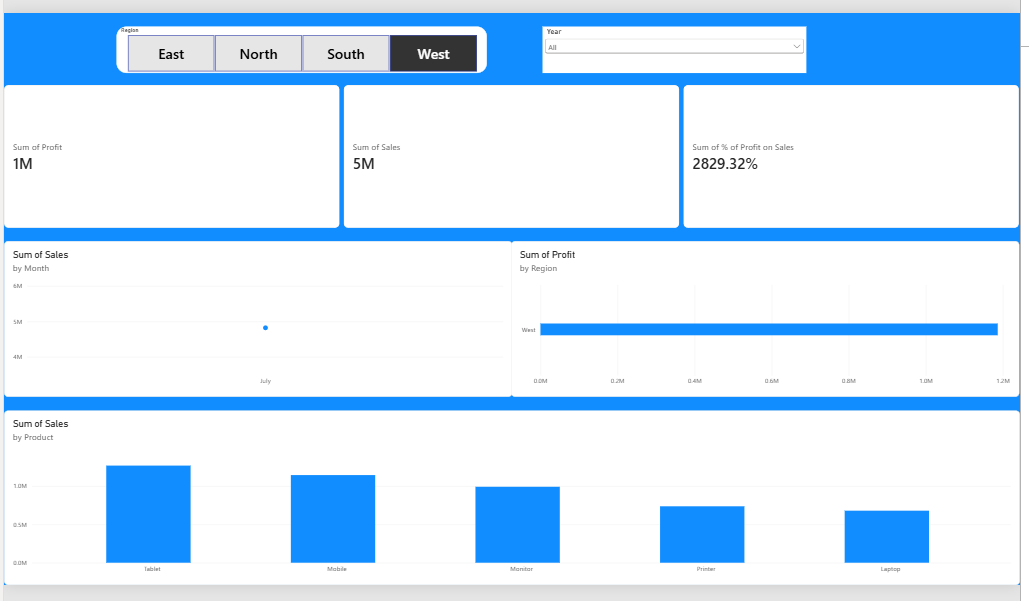

Layout of this report page (visuals, bound fields, positions):
{"tool":"powerbi","page":{"name":"Page 1","canvas":[1920,1080],"ordinal":0},"visuals":[{"type":"cardVisual","fields":{"Data":["Sum(salesdb sales_data.Profit)","Sum(salesdb sales_data.Sales)","Sum(salesdb sales_data.% of Profit on Sales)"]},"box":[0,136.7,1920,270],"z":0},{"type":"lineChart","fields":{"Category":["salesdb sales_data.Order_Date.Variation.Date Hierarchy.Month"],"Y":["Sum(salesdb sales_data.Sales)"]},"box":[0,430.9,961,294.8],"z":1000},{"type":"barChart","fields":{"Category":["salesdb sales_data.Region"],"Y":["Sum(salesdb sales_data.Profit)"]},"box":[958.1,430.9,961,294.8],"z":1001},{"type":"columnChart","fields":{"Category":["salesdb sales_data.Product"],"Y":["Sum(salesdb sales_data.Sales)"]},"box":[0,750,1920,330],"z":1002},{"type":"slicer","fields":{"Values":["salesdb sales_data.Region"]},"box":[213.3,26.7,700.2,87.9],"z":1003},{"type":"slicer","fields":{"Values":["salesdb sales_data.Order_Date.Variation.Date Hierarchy.Year"]},"box":[1016.7,26.7,498.9,87.9],"z":1004}]}

Visuals, with their boxes in screenshot pixels (x1, y1, x2, y2):
cardVisual - Sum(salesdb sales_data.Profit) x Sum(salesdb sales_data.Sales): <box>0,83,1015,226</box>
lineChart - salesdb sales_data.Order_Date.Variation.Date Hierarchy.Month x Sum(salesdb sales_data.Sales): <box>0,238,508,394</box>
barChart - salesdb sales_data.Region x Sum(salesdb sales_data.Profit): <box>506,238,1014,394</box>
columnChart - salesdb sales_data.Product x Sum(salesdb sales_data.Sales): <box>0,407,1015,582</box>
slicer - salesdb sales_data.Region: <box>113,25,483,71</box>
slicer - salesdb sales_data.Order_Date.Variation.Date Hierarchy.Year: <box>537,25,801,71</box>
